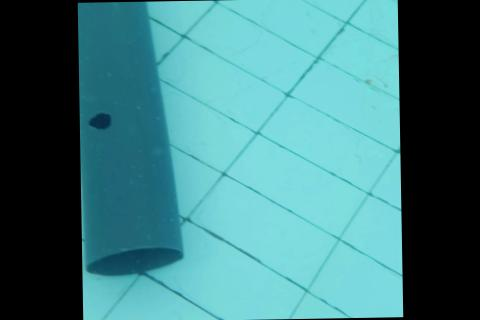kebocoran: (87, 110, 112, 130)
